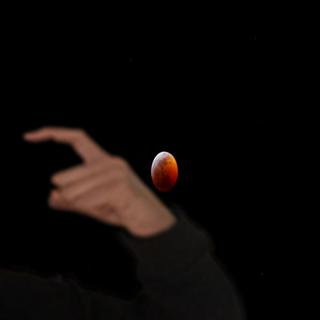WHY: (14, 118, 173, 234)
